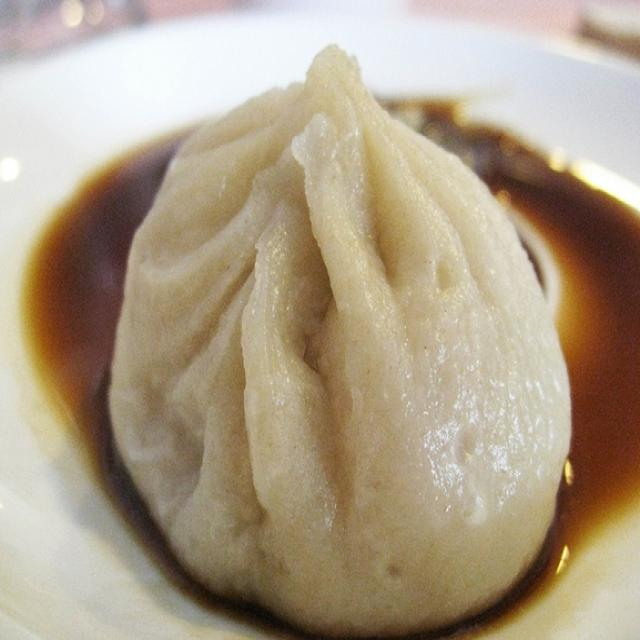带馅早点: (55, 34, 586, 624)
